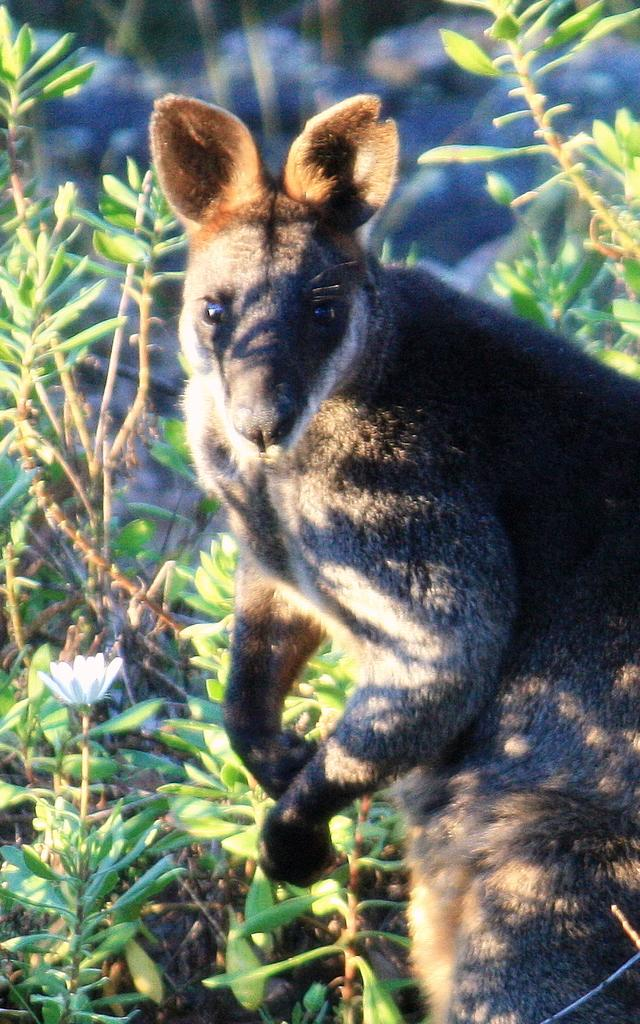kangaroo: (148, 93, 639, 1023)
